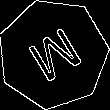M_SE: (20, 20, 86, 87)
